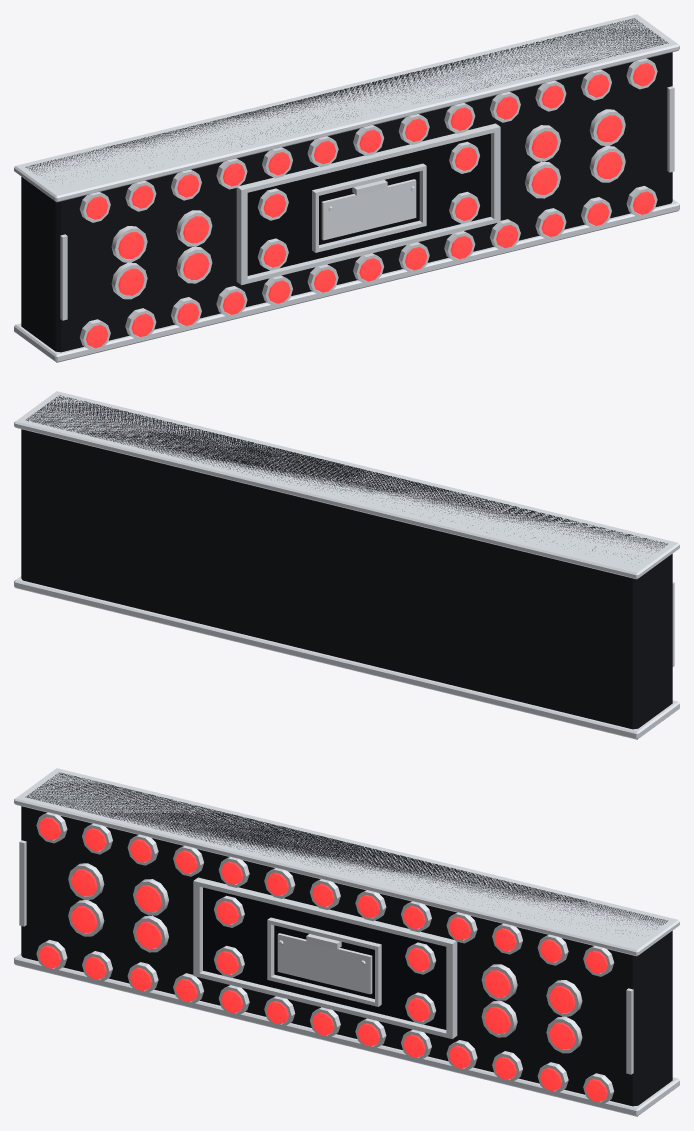
The model's file is rb_grand_panel.glb.
3 renders of one model, top to bottom at view 1: azimuth 30°, elevation 25°; view 2: azimuth 150°, elevation 25°; view 3: azimuth 330°, elevation 25°, orthographic.
Parts seen in each view (by area): view 1: rb_grand_panel_chrome, rb_grand_panel_deco_body, rb_grand_panel_lamp_tail, rb_grand_panel_deco_trim, rb_grand_panel_deco_plate; view 2: rb_grand_panel_deco_body, rb_grand_panel_chrome; view 3: rb_grand_panel_deco_body, rb_grand_panel_chrome, rb_grand_panel_lamp_tail, rb_grand_panel_deco_trim, rb_grand_panel_deco_plate.
Part boxes in pixels (<box>): rb_grand_panel_chrome: <box>14,14,679,362</box>; rb_grand_panel_deco_body: <box>21,18,672,352</box>; rb_grand_panel_lamp_tail: <box>86,63,654,348</box>; rb_grand_panel_deco_trim: <box>247,133,490,275</box>; rb_grand_panel_deco_plate: <box>321,179,416,240</box>; rb_grand_panel_deco_body: <box>21,395,672,729</box>; rb_grand_panel_chrome: <box>14,391,679,739</box>; rb_grand_panel_deco_body: <box>21,772,672,1106</box>; rb_grand_panel_chrome: <box>14,768,679,1116</box>; rb_grand_panel_lamp_tail: <box>39,817,607,1102</box>; rb_grand_panel_deco_trim: <box>203,887,446,1029</box>; rb_grand_panel_deco_plate: <box>277,933,372,994</box>.
Bounding box in the file's own units: 2.43 × 0.62 × 0.318.
